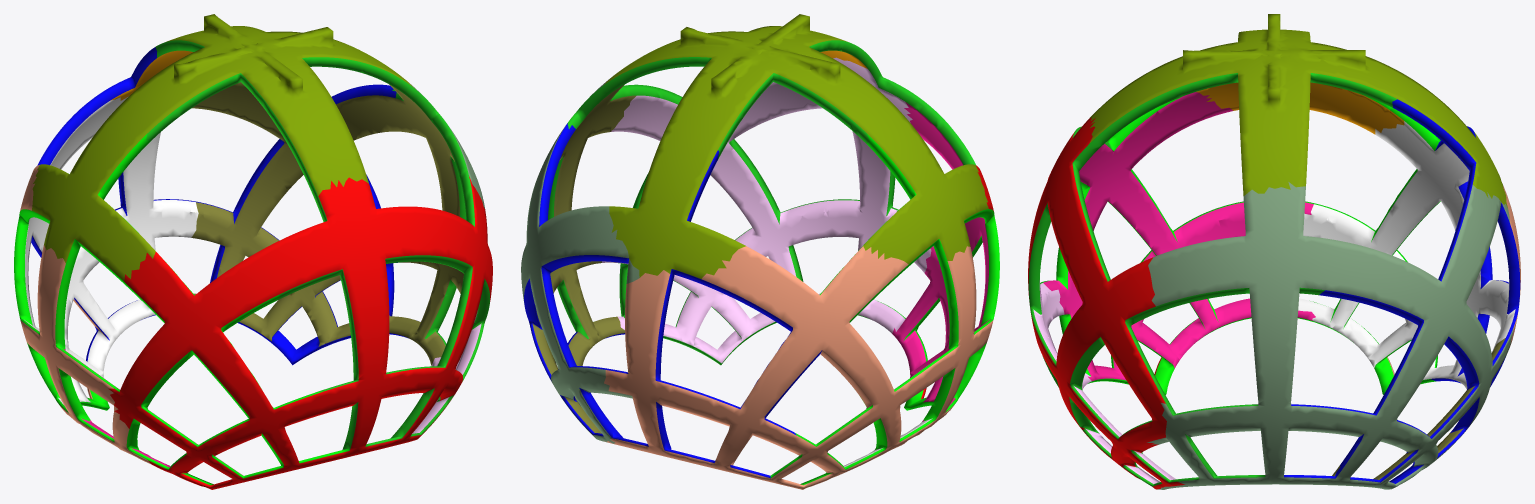
Rendered from model_84_segmented_new.obj.
3 views of the same model, side by side, from view 1: azimuth 30°, elevation 25°; view 2: azimuth 150°, elevation 25°; view 3: azimuth 270°, elevation 25° (orthographic). The views are drawn at different scales.
Size of the model in its own units: 80.98 by 70.85 by 80.99.
